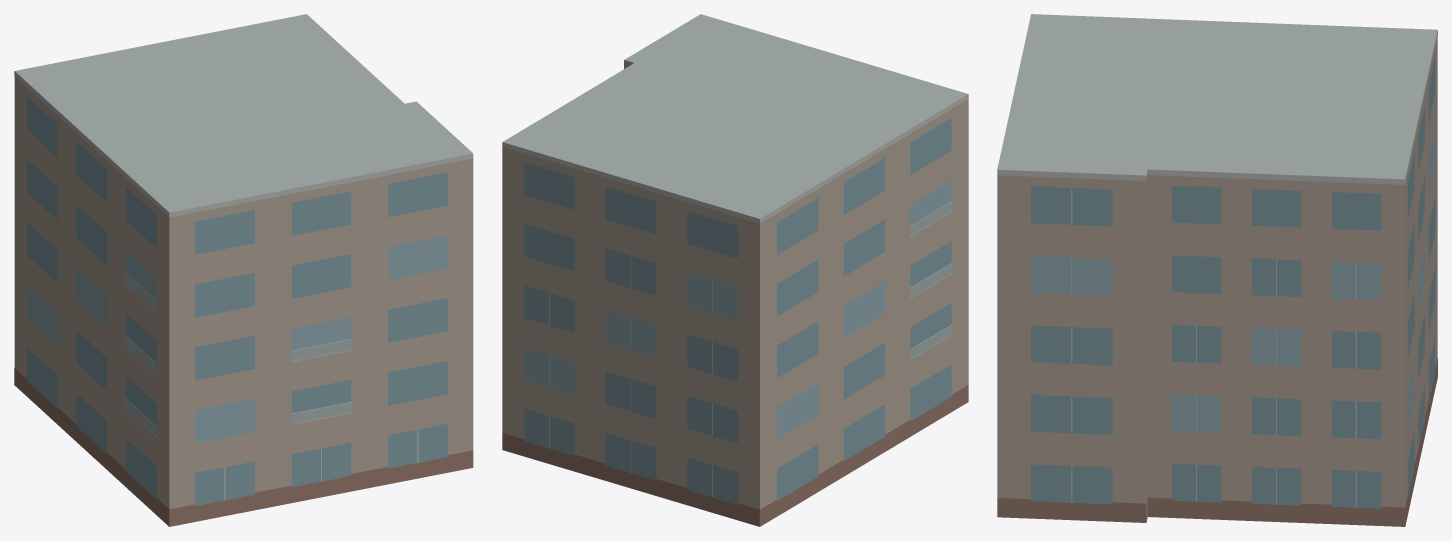
The model's file is survey-upis-32768495.glb.
3 renders of one model, left to right at view 1: azimuth 30°, elevation 25°; view 2: azimuth 150°, elevation 25°; view 3: azimuth 270°, elevation 25°, orthographic. The views are drawn at different scales.
Parts seen in each view (by area): view 1: survey-upis-32768495.tmp; view 2: survey-upis-32768495.tmp; view 3: survey-upis-32768495.tmp.
Boxes of the visible parts, bbox=[...] form: survey-upis-32768495.tmp: bbox=[14, 14, 473, 526]; survey-upis-32768495.tmp: bbox=[502, 14, 968, 526]; survey-upis-32768495.tmp: bbox=[997, 14, 1437, 526].
Bounding box in the file's own units: 15.58 × 15.25 × 17.54.
